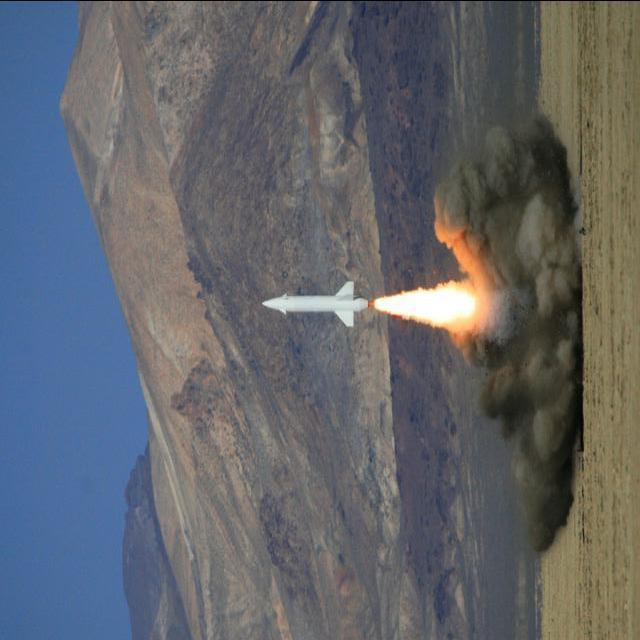missile: (260, 280, 376, 337)
